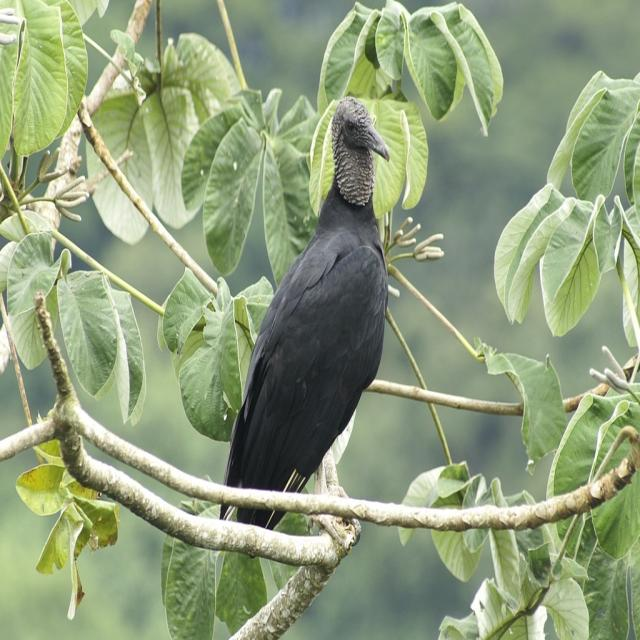bird: (217, 89, 396, 538)
